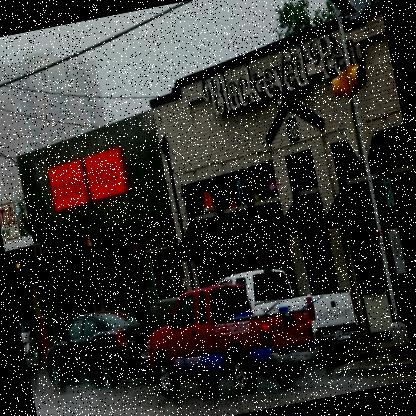Car: (35, 302, 162, 398), (18, 315, 42, 391)
